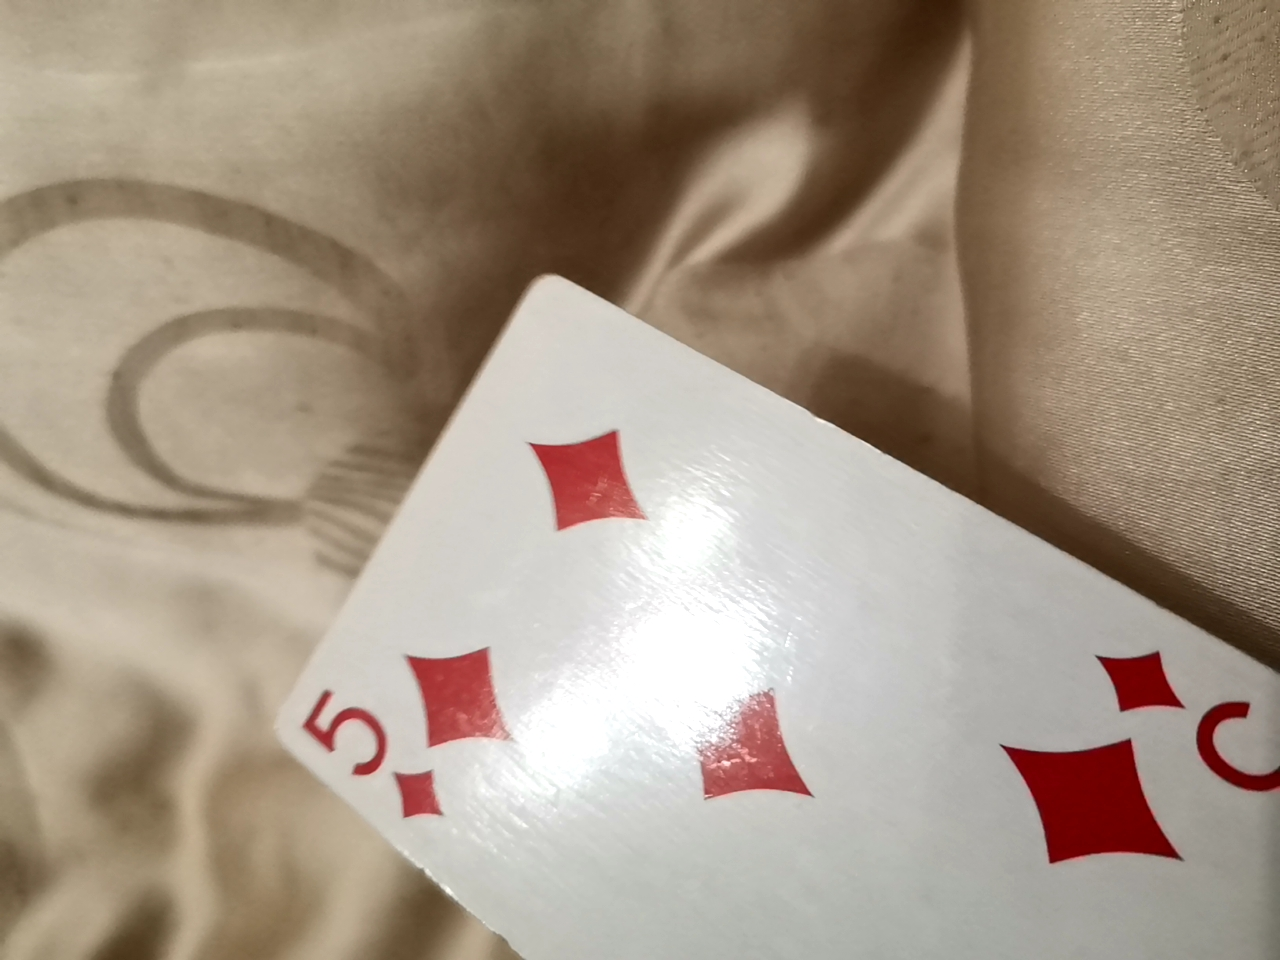fk 5: (215, 221, 1268, 953)
